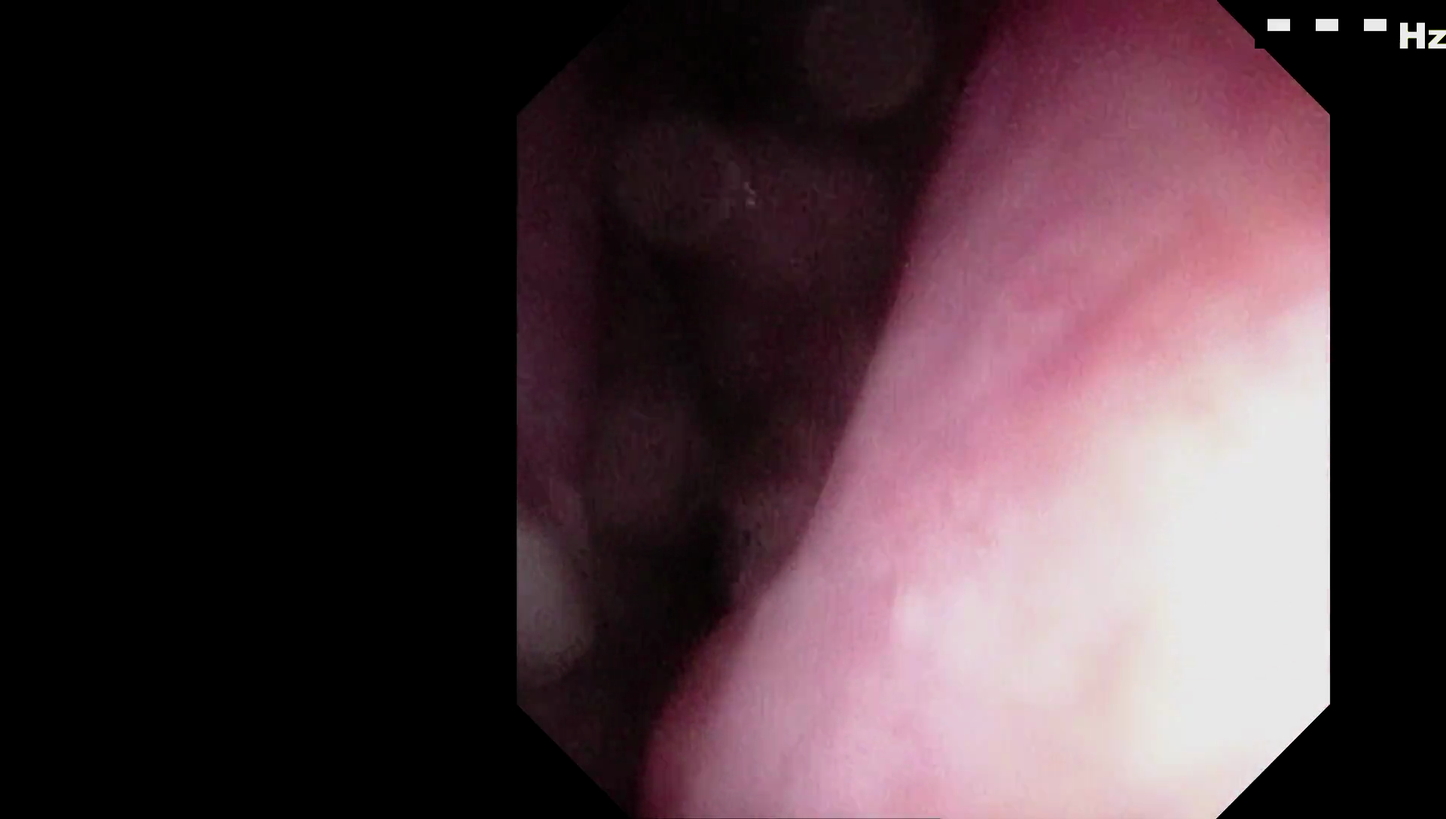close_wall: (858, 209, 1294, 726)
next: (557, 188, 842, 495), (557, 504, 780, 759), (600, 16, 918, 160), (843, 90, 1005, 248)
